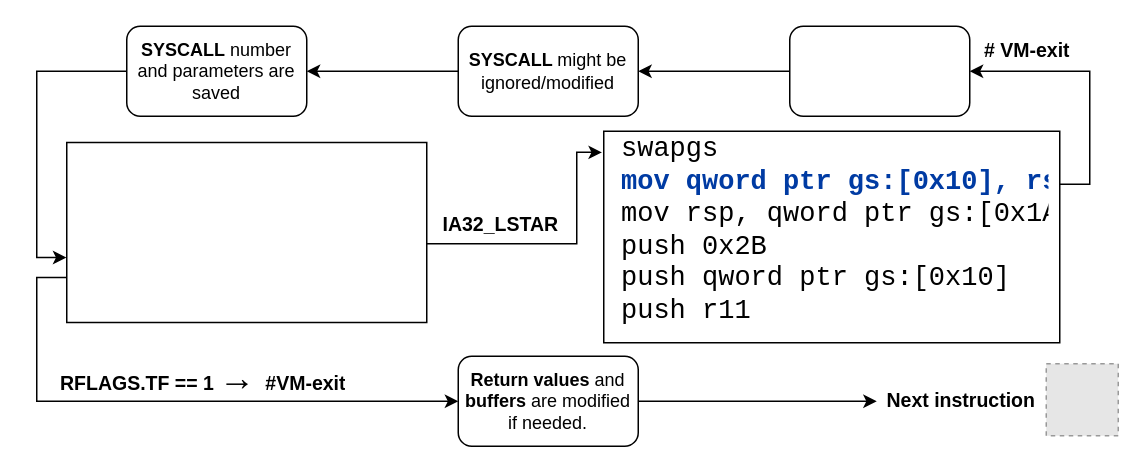
Some shapes in this 1145 by 473 pixel diagram are drawn without their labels. Grey dashed boxes stand in for pictures. The centre of each missing label's shape, as x and y in pixels:
"mov r10, rcx mov eax, 0x0123 syscall ret" goes at point (246, 231).
"RFLGAS.TF = 1" goes at point (879, 70).
